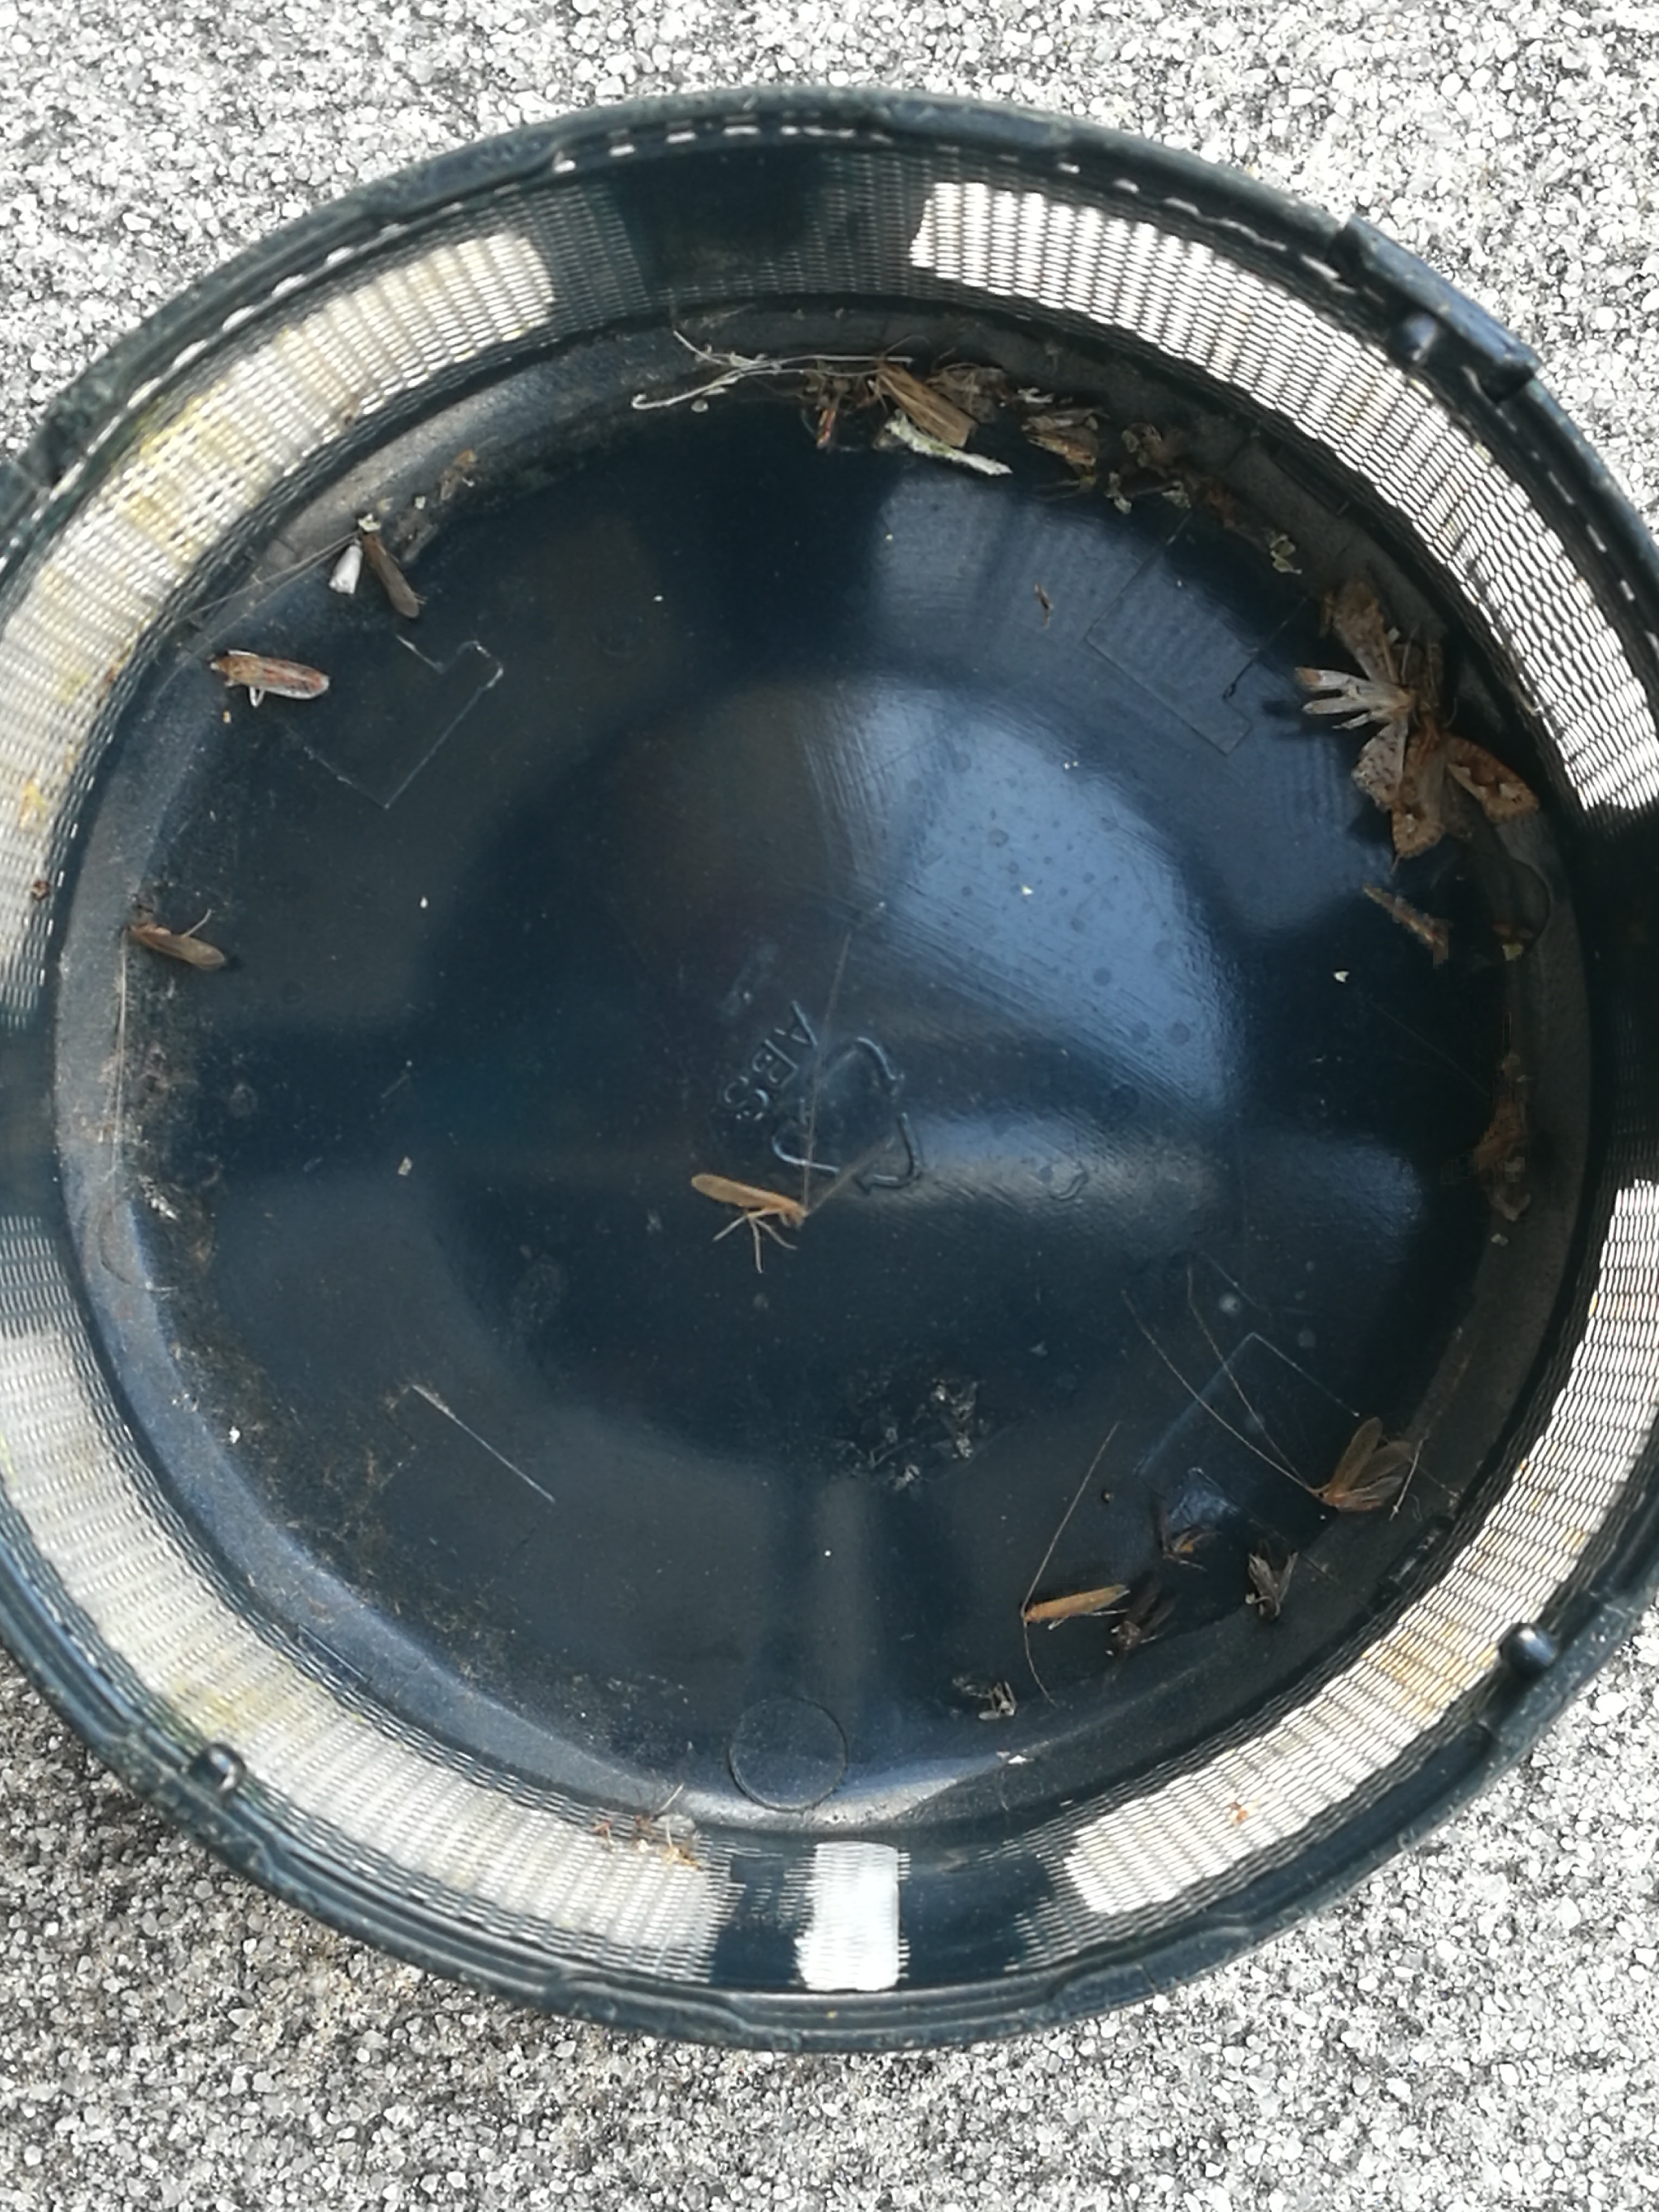mosquito: (875, 354, 976, 446), (692, 1172, 805, 1228), (209, 655, 329, 700), (361, 524, 418, 618), (125, 925, 225, 968), (1023, 1585, 1127, 1622), (1030, 435, 1096, 465), (1019, 408, 1091, 434)
moth: (1297, 580, 1417, 810), (1391, 718, 1537, 859), (1309, 1418, 1412, 1510), (1114, 1573, 1175, 1649), (1248, 1554, 1300, 1622)
